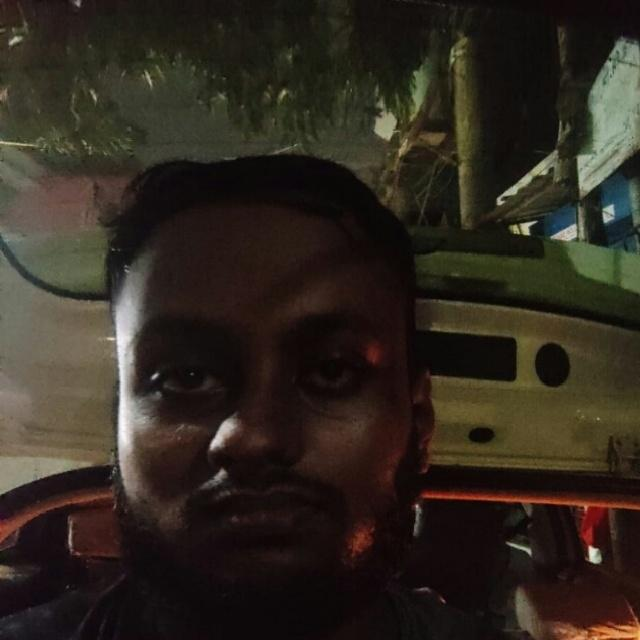Sad: (80, 137, 449, 628)
